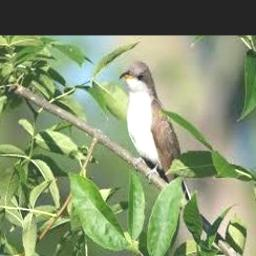Cuckoo: (119, 61, 195, 210)
